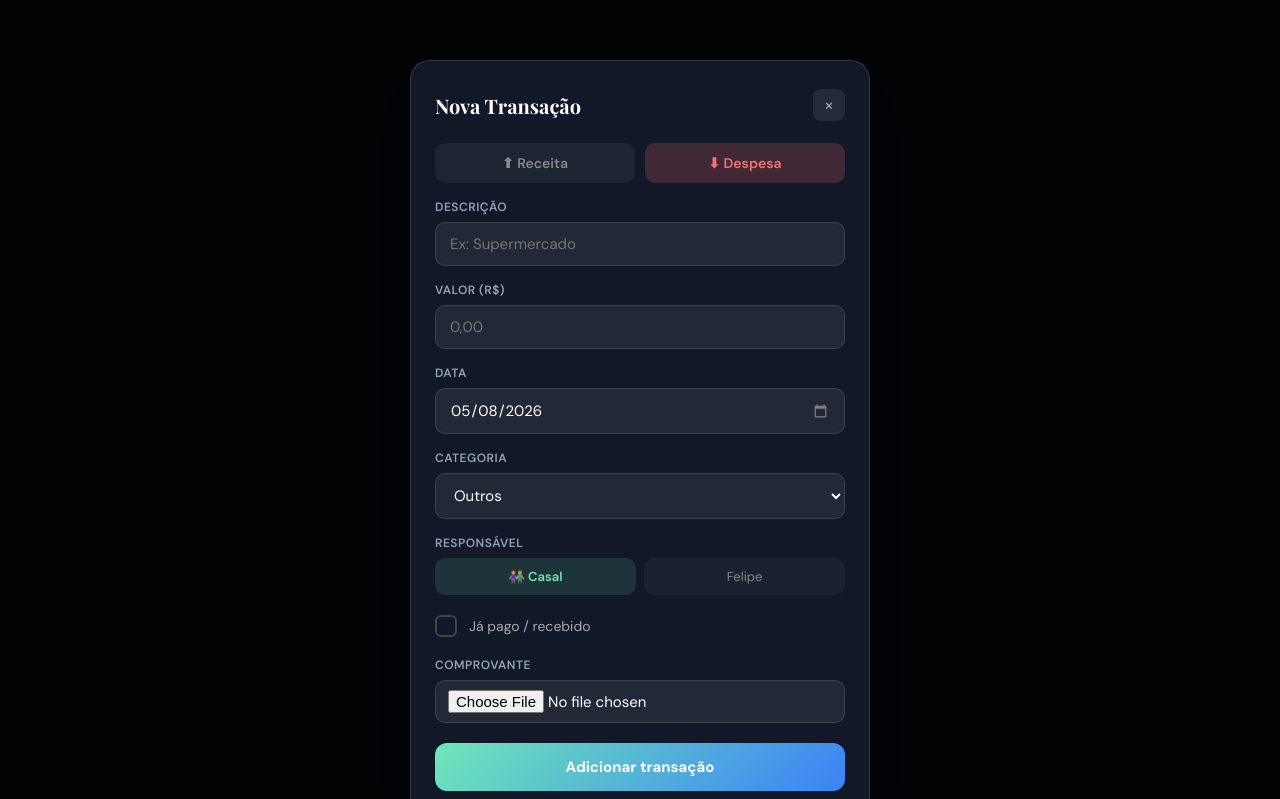
transaction forms › validates manual transaction fields
This screenshot has width=1280, height=799.
Click the button "Adicionar transação" at coordinates (640, 767), box [435, 743, 845, 791]
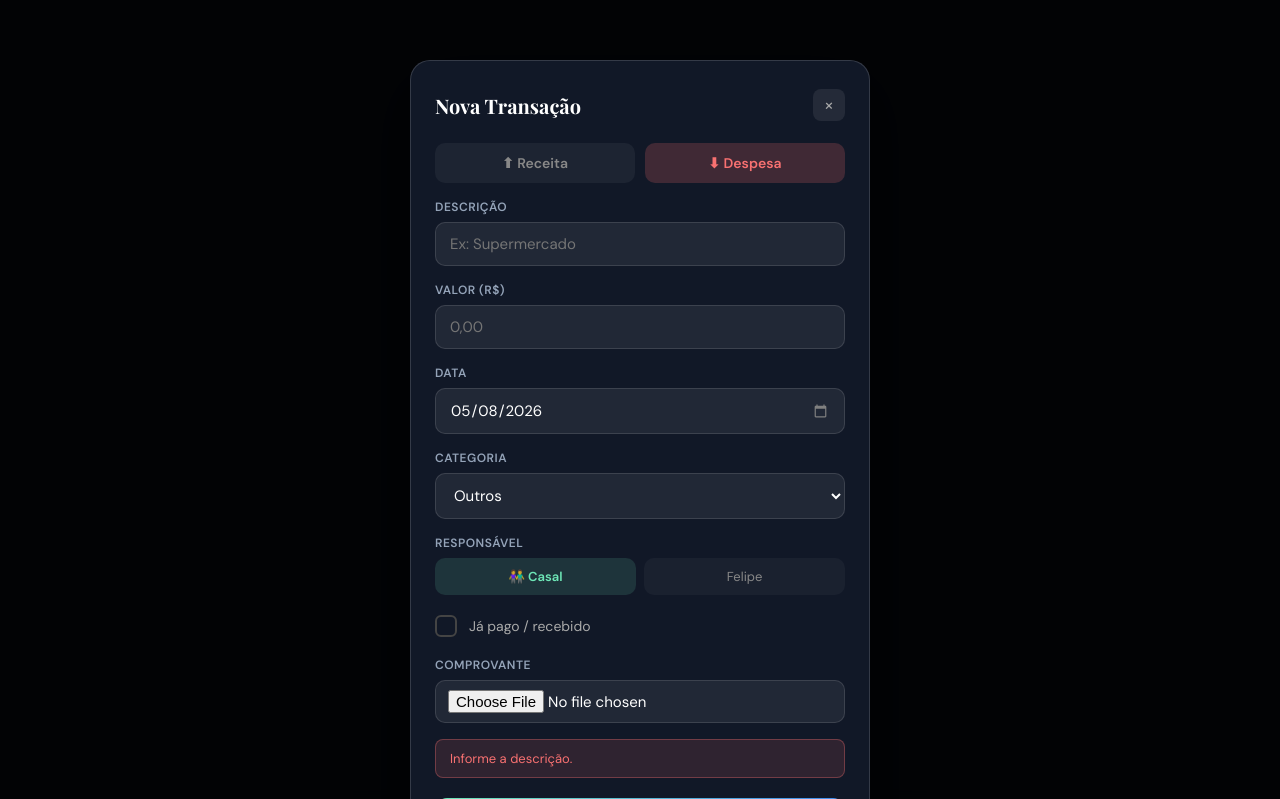
expect the text "Informe a descrição." is shown: met, box [435, 739, 845, 778]
